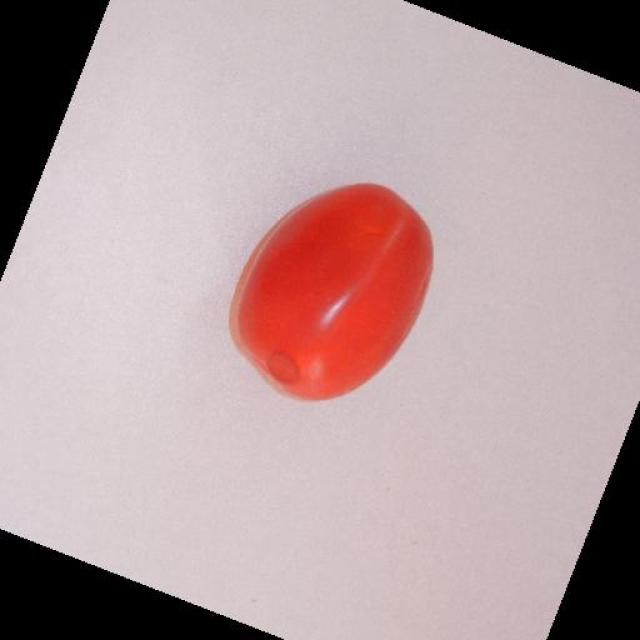Fresh_tomato: (230, 180, 437, 398)
